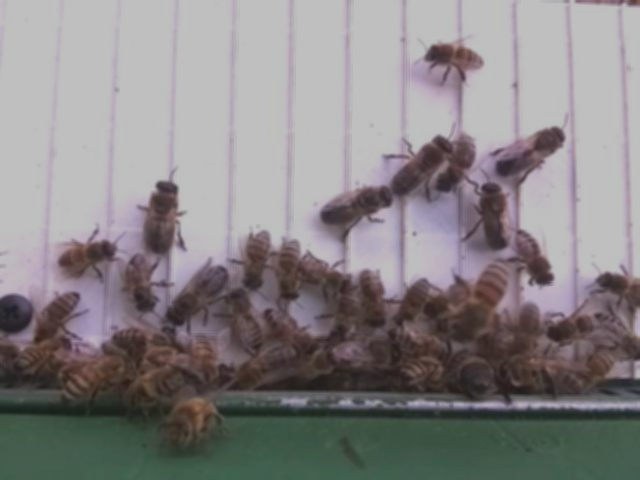Drone: (386, 131, 457, 199), (164, 261, 232, 331), (494, 121, 570, 180), (318, 180, 396, 232), (140, 176, 184, 254), (477, 179, 512, 253)
Worker: (456, 256, 510, 342), (57, 229, 124, 279), (220, 287, 267, 355), (298, 252, 358, 301), (34, 287, 86, 343), (264, 305, 321, 356), (513, 223, 555, 290), (234, 227, 278, 290), (273, 233, 311, 305), (437, 130, 480, 193), (541, 308, 604, 351), (591, 307, 640, 359), (396, 352, 458, 393), (422, 38, 490, 75), (123, 251, 161, 314), (361, 260, 394, 330), (392, 277, 439, 323), (511, 297, 544, 358)
